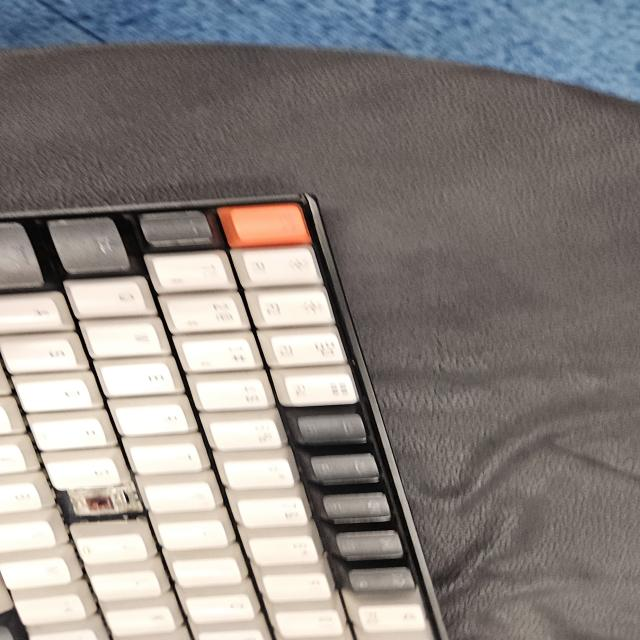C: (69, 487, 127, 524)
